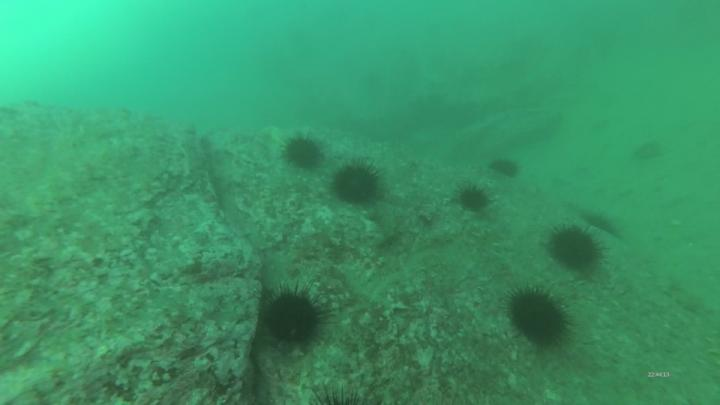echinus: (264, 288, 328, 353), (508, 288, 569, 348), (550, 225, 602, 272), (332, 163, 384, 207), (283, 133, 329, 174), (454, 183, 491, 215), (485, 155, 523, 180)
